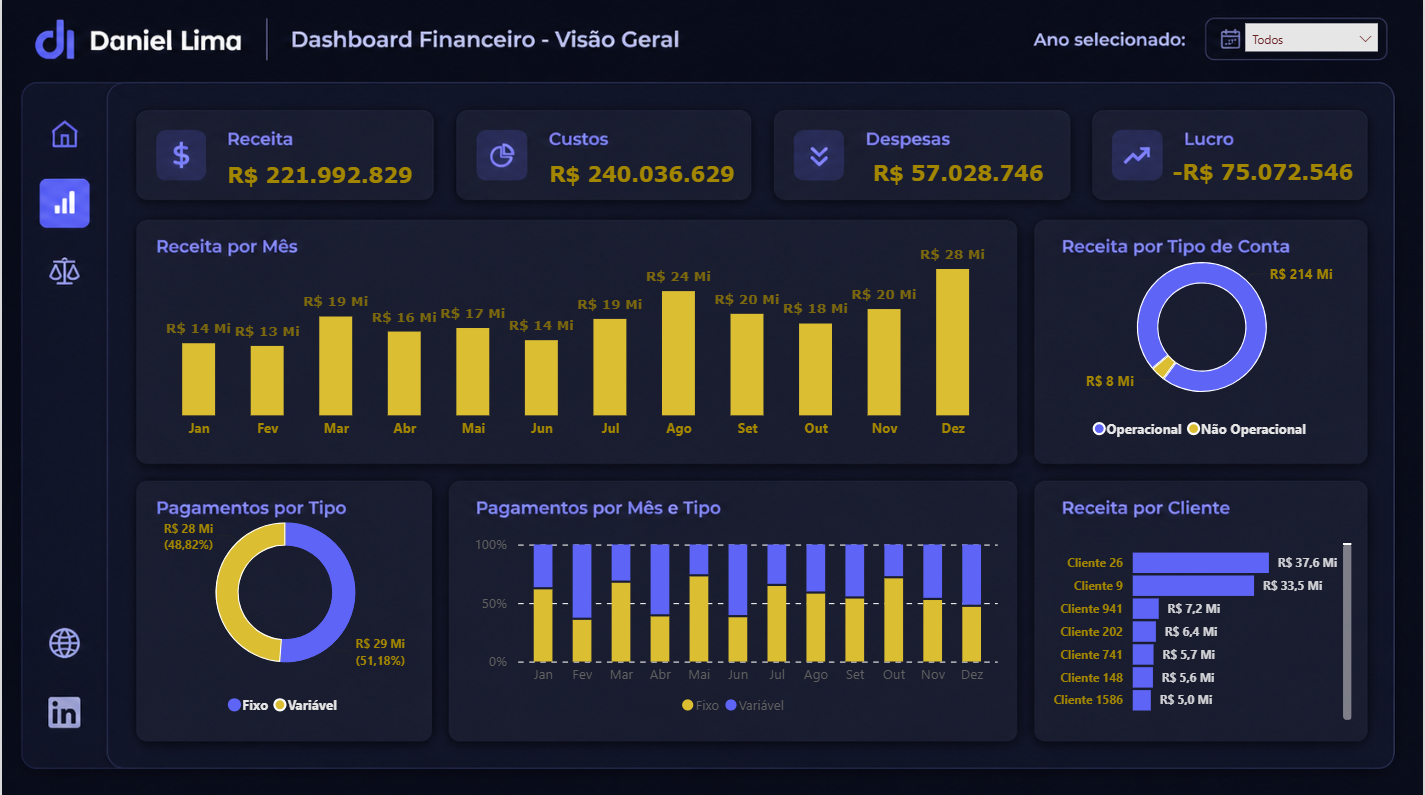

The page's visual inventory and layout, read from the dashboard file:
{"tool":"powerbi","page":{"name":"Visão Geral","canvas":[1920,1080],"ordinal":1},"visuals":[{"type":"card","fields":{"Values":["Medidas.Receitas"]},"box":[293.3,202.6,281.2,60.5],"z":0},{"type":"card","fields":{"Values":["Medidas.Custo"]},"box":[719.6,202.6,281.2,60.5],"z":1},{"type":"card","fields":{"Values":["Medidas.Despesas"]},"box":[1152,202.6,281.2,60.5],"z":2},{"type":"card","fields":{"Values":["Medidas.Lucro"]},"box":[1582.9,202.6,281.2,60.5],"z":3},{"type":"columnChart","fields":{"Category":["Calendario.MesAbreviado"],"Y":["Medidas.Receitas"]},"box":[179.9,349.2,1263.9,320.5],"z":4},{"type":"donutChart","fields":{"Category":["PlanoContas.conta"],"Y":["Medidas.Receitas"]},"box":[1460.4,349.2,403.7,320.5],"z":5},{"type":"donutChart","fields":{"Category":["PlanoContas.tipo"],"Y":["Medidas.Despesas"]},"box":[170.8,746.8,474.7,281.2],"z":6},{"type":"hundredPercentStackedColumnChart","fields":{"Category":["Calendario.MesAbreviado"],"Series":["PlanoContas.tipo"],"Y":["Medidas.Despesas"]},"box":[672.8,746.8,713.6,281.2],"z":7},{"type":"barChart","fields":{"Category":["Recebimentos.cliente"],"Y":["Medidas.Receitas"]},"box":[1408.6,747.4,455.2,281.4],"z":8},{"type":"slicer","fields":{"Values":["Calendario.Ano"]},"box":[1635.8,31.7,249.4,92.2],"z":9},{"type":"actionButton","box":[34.8,105.8,80.1,75.6],"z":10},{"type":"actionButton","box":[34.8,312.9,80.1,92.2],"z":11}]}

Visuals, with their boxes in screenshot pixels (x1, y1, x2, y2), scaled from the page's 1920x1080 canvas onto the 1425x795 screenshot:
card - Medidas.Receitas: region(218, 149, 426, 194)
card - Medidas.Custo: region(534, 149, 743, 194)
card - Medidas.Despesas: region(855, 149, 1064, 194)
card - Medidas.Lucro: region(1175, 149, 1384, 194)
columnChart - Calendario.MesAbreviado x Medidas.Receitas: region(134, 257, 1072, 493)
donutChart - PlanoContas.conta x Medidas.Receitas: region(1084, 257, 1384, 493)
donutChart - PlanoContas.tipo x Medidas.Despesas: region(127, 550, 479, 757)
hundredPercentStackedColumnChart - Calendario.MesAbreviado x PlanoContas.tipo: region(499, 550, 1029, 757)
barChart - Recebimentos.cliente x Medidas.Receitas: region(1045, 550, 1383, 757)
slicer - Calendario.Ano: region(1214, 23, 1399, 91)
actionButton: region(26, 78, 85, 134)
actionButton: region(26, 230, 85, 298)
